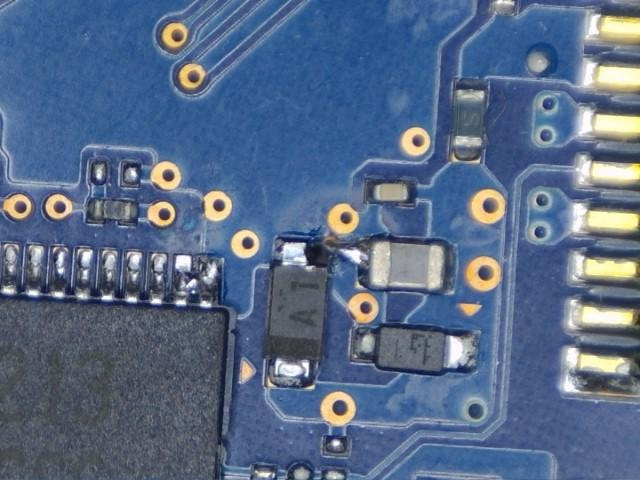pcb_defect: (281, 239, 391, 289), (173, 256, 221, 308)
